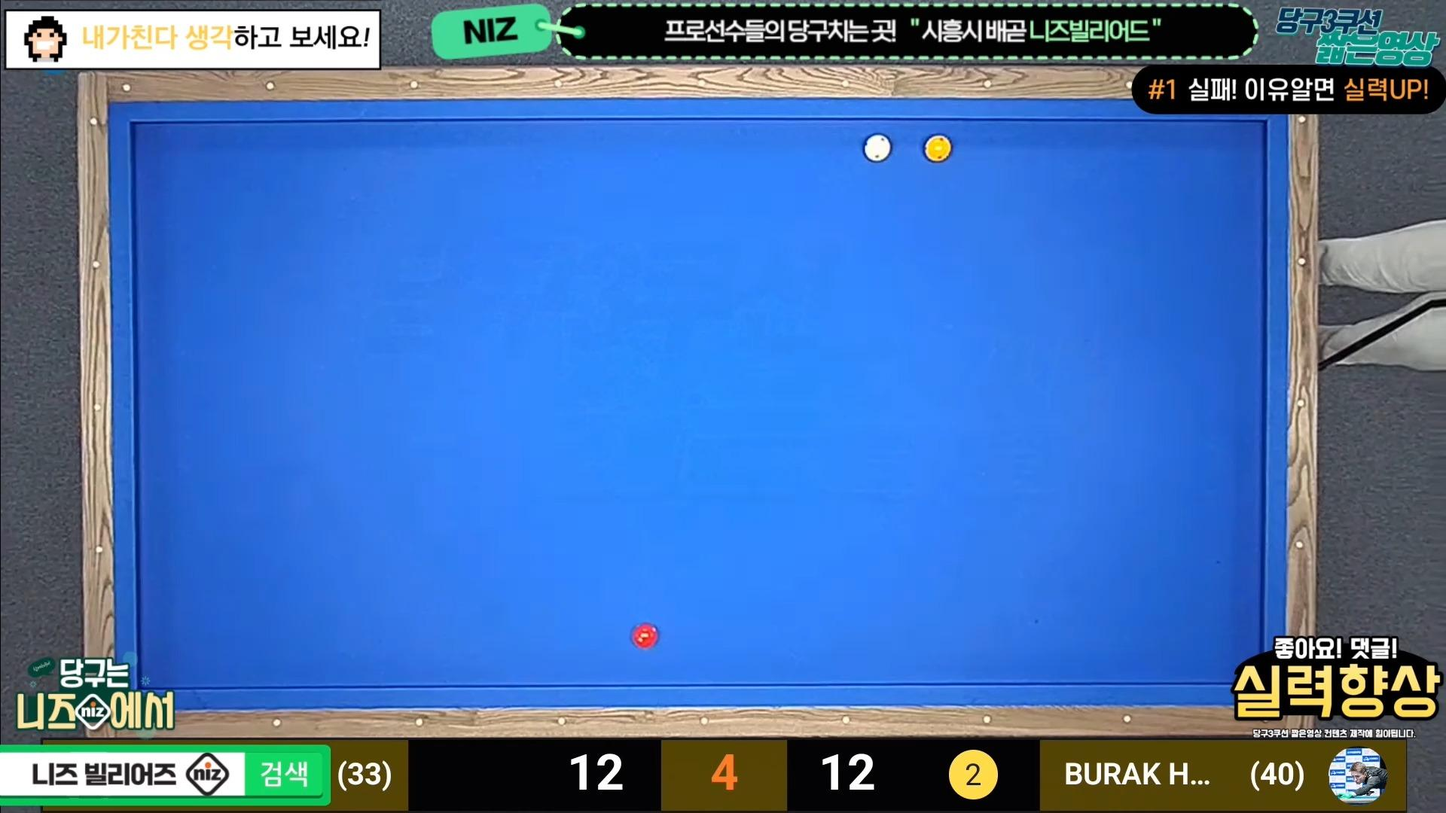-billiard-ball: (862, 132, 891, 163), (923, 133, 952, 163)
Red: (631, 624, 662, 650)
White: (863, 133, 894, 163)
Yellow: (925, 134, 958, 163)
